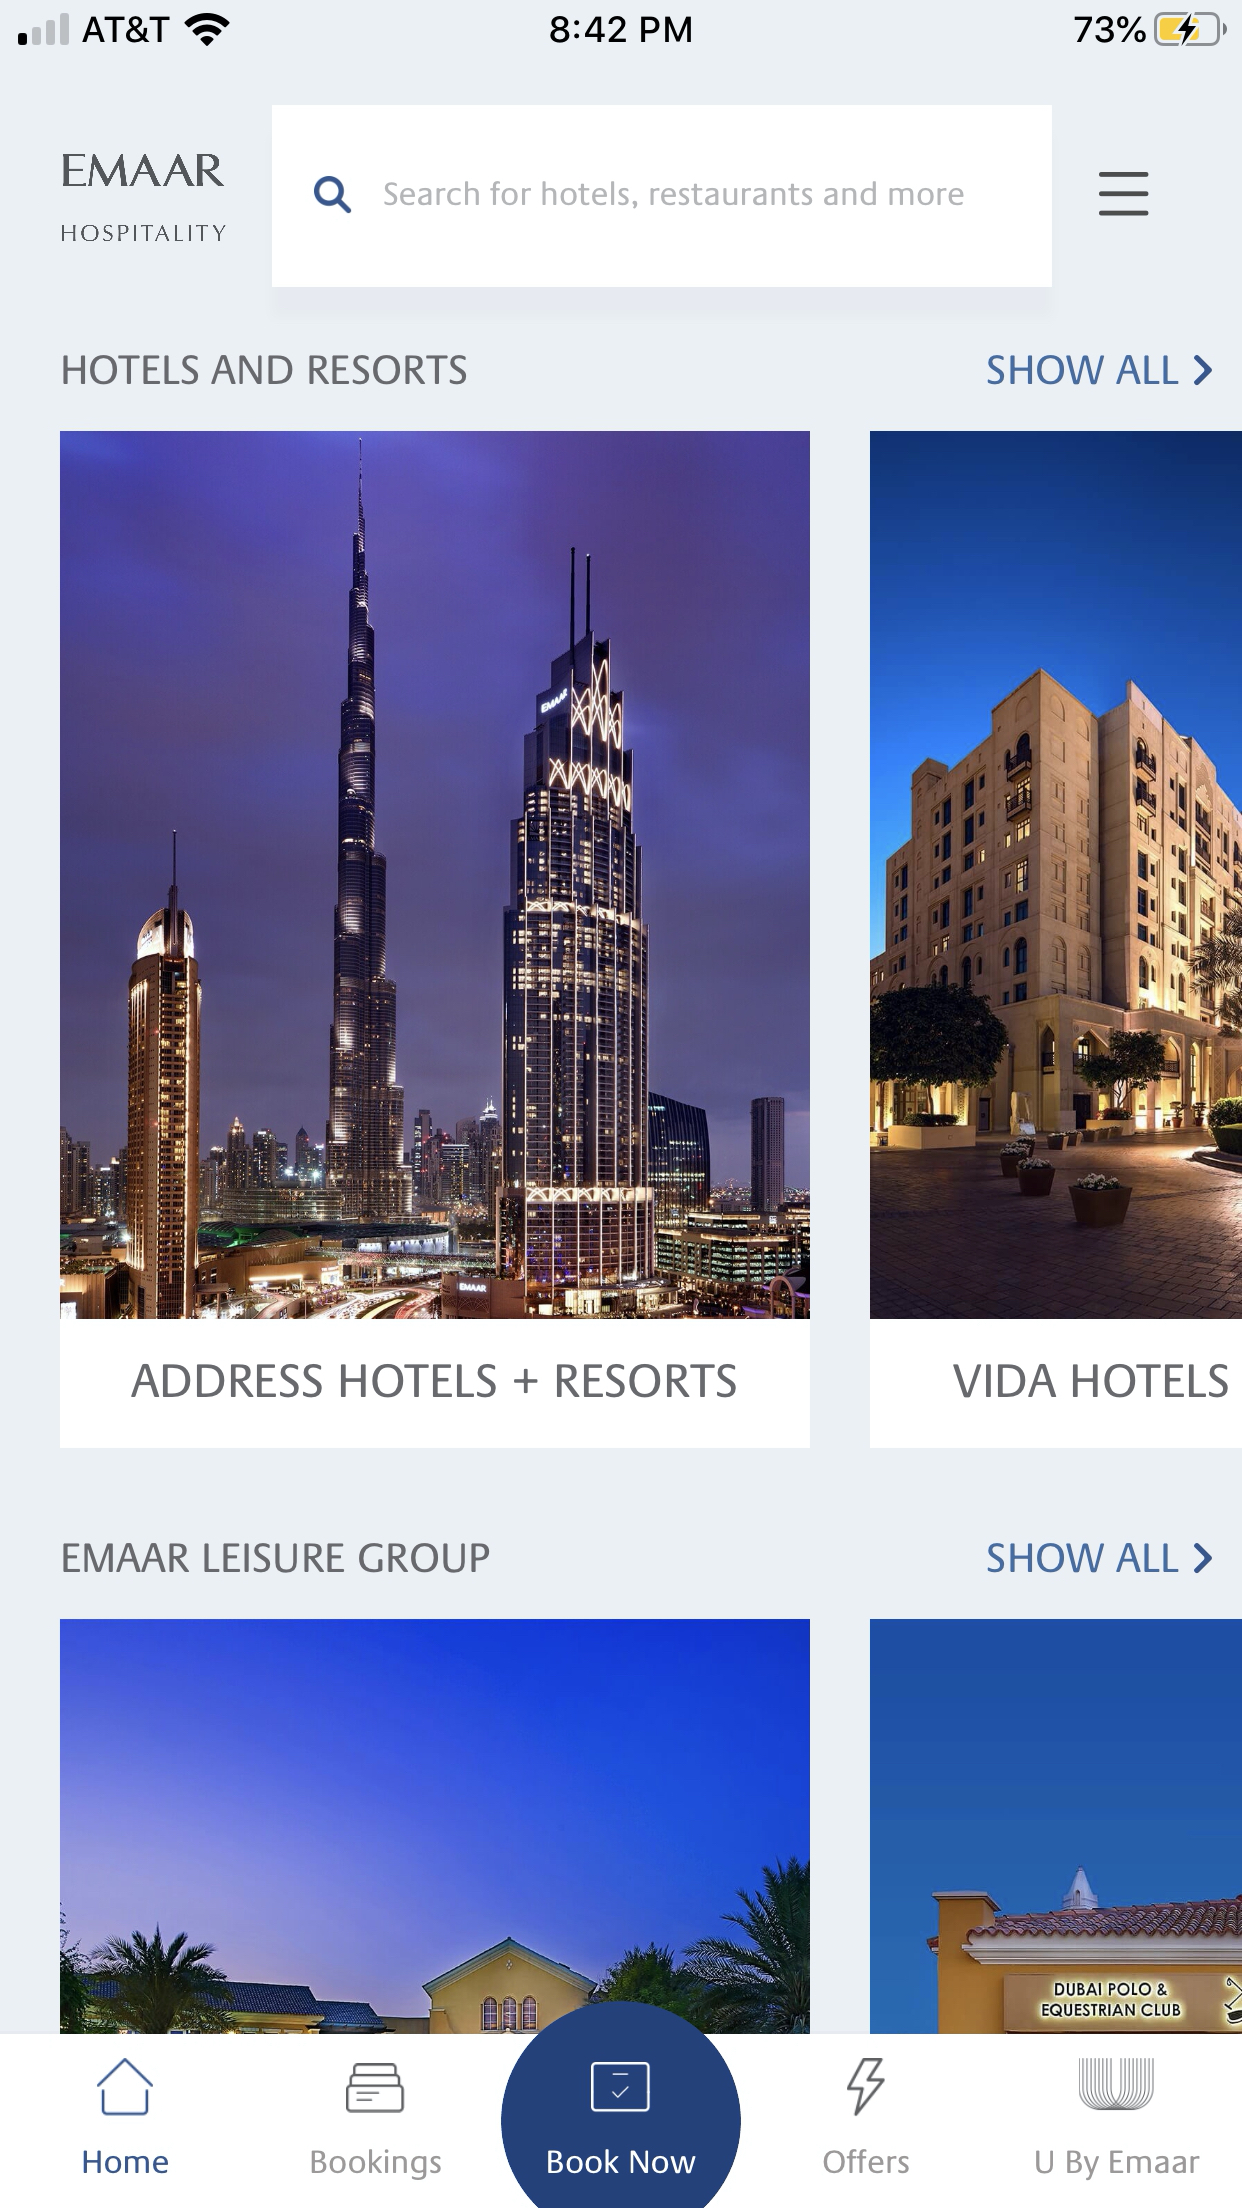EditText: (271, 106, 1052, 288)
Icon: (97, 2058, 155, 2115), (591, 2061, 651, 2112), (1098, 171, 1149, 217), (315, 177, 352, 214), (1193, 356, 1212, 387), (1193, 1542, 1212, 1573)
Image: (61, 432, 810, 1319), (870, 431, 1242, 1319), (61, 1620, 810, 2034), (870, 1620, 1242, 2034), (1080, 2058, 1156, 2109), (346, 2062, 406, 2112), (848, 2058, 886, 2115)
Text: (132, 1363, 737, 1400), (384, 182, 964, 209), (64, 1542, 490, 1574), (64, 356, 467, 387), (952, 1363, 1228, 1398), (987, 1542, 1178, 1573), (989, 356, 1178, 387), (64, 155, 224, 187), (1036, 2150, 1200, 2181), (312, 2147, 441, 2181), (547, 2147, 698, 2175), (64, 226, 227, 243), (823, 2149, 908, 2175), (83, 2150, 168, 2175)
UpperTaskBar: (2, 2, 1242, 49)
